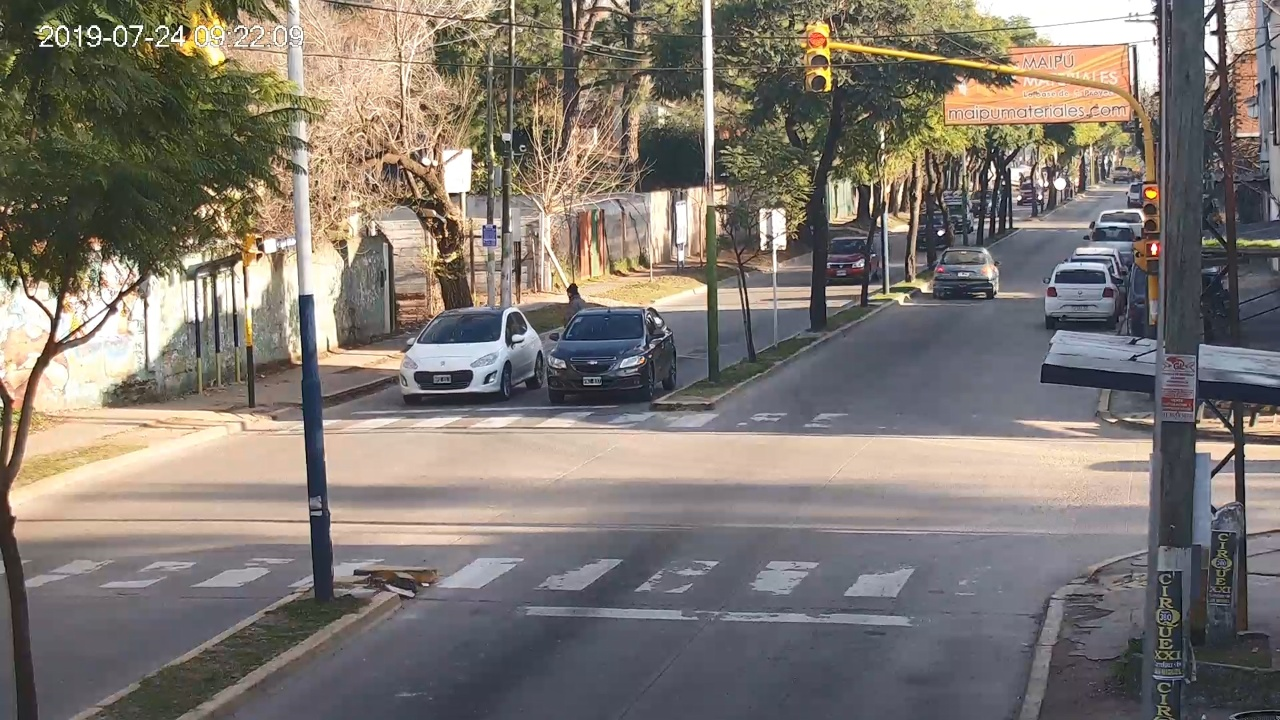car: (932, 247, 1002, 299)
front car: (399, 307, 544, 404)
traffic light: (807, 26, 830, 92), (1142, 184, 1160, 233)
